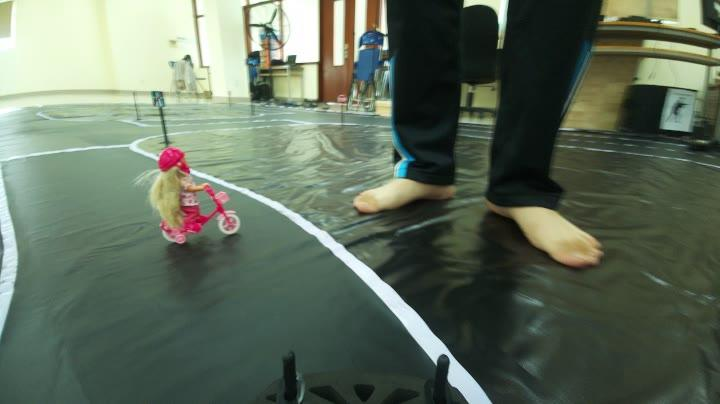pedestrian: (136, 146, 252, 254)
